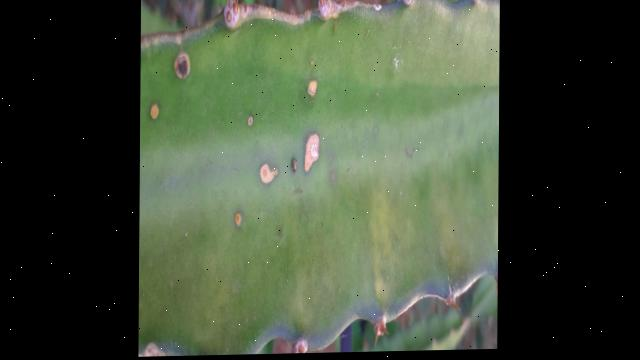stemcanker: (302, 130, 323, 176), (171, 50, 194, 86), (253, 162, 279, 187), (301, 77, 322, 102), (231, 208, 245, 234), (150, 99, 162, 123), (244, 110, 257, 132)
